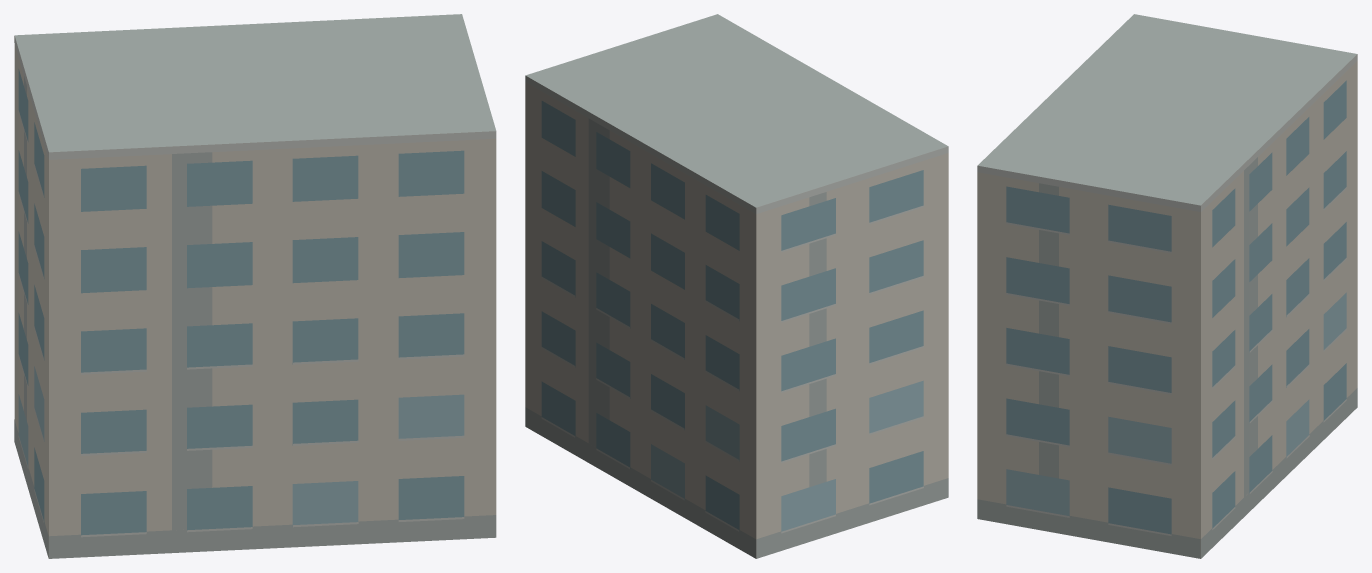
Rendered from survey-upis-32531090.glb.
3 renders of one model, left to right at view 1: azimuth 30°, elevation 25°; view 2: azimuth 150°, elevation 25°; view 3: azimuth 270°, elevation 25°, orthographic. The views are drawn at different scales.
Parts seen in each view (by area): view 1: survey-upis-32531090.tmp; view 2: survey-upis-32531090.tmp; view 3: survey-upis-32531090.tmp.
Boxes of the visible parts, box(x1,y1,x2,y2) form: survey-upis-32531090.tmp: box(14, 14, 496, 558); survey-upis-32531090.tmp: box(525, 14, 948, 558); survey-upis-32531090.tmp: box(977, 14, 1357, 558).
Bounding box in the file's own units: 15.24 × 13.1 × 12.78.
